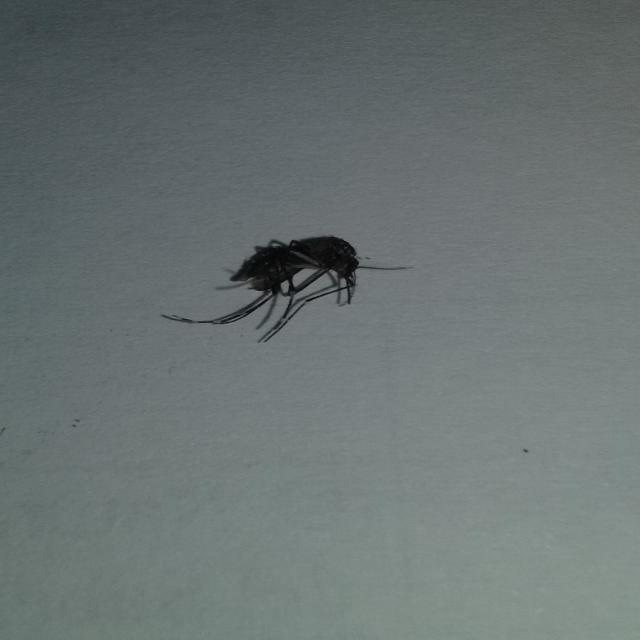albopictus: (168, 225, 415, 345)
